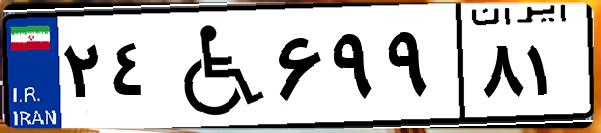1: (525, 38, 570, 115)
2: (57, 26, 110, 100)
4: (110, 28, 158, 98)
6: (270, 28, 330, 110)
8: (475, 38, 525, 113)
9: (385, 28, 445, 110), (330, 28, 385, 110)
ژ (معلولین و جانبازان): (158, 12, 270, 120)
